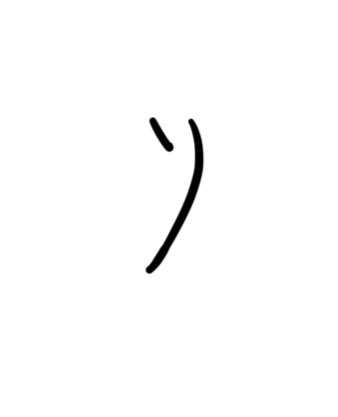so: (118, 112, 213, 279)
